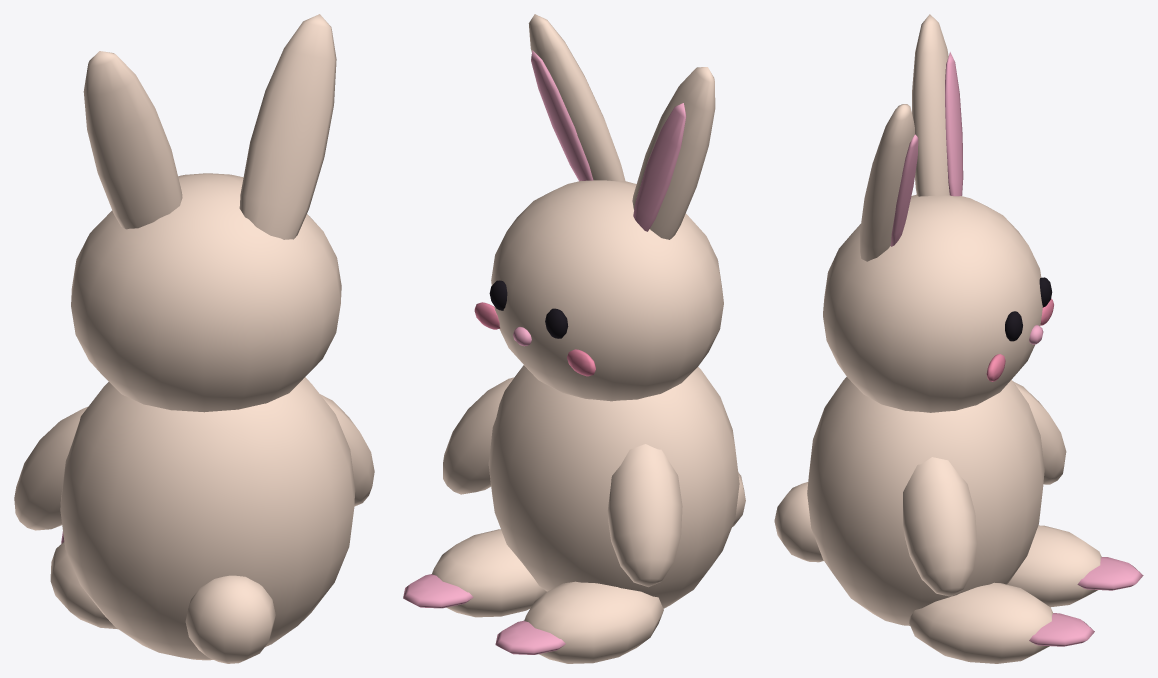
The model's file is plushie.fbx.
The picture shows the model from 3 angles, left to right: view 1: azimuth 30°, elevation 25°; view 2: azimuth 150°, elevation 25°; view 3: azimuth 270°, elevation 25°; orthographic projection. The views are drawn at different scales.
Visible parts, largest first — view 1: plushie; view 2: plushie; view 3: plushie.
Part boxes in pixels (bbox=[...]): plushie: bbox=[14, 14, 374, 663]; plushie: bbox=[403, 14, 745, 663]; plushie: bbox=[774, 14, 1143, 663].
Size of the model in its own units: 0.1971 by 0.391 by 0.2349.
